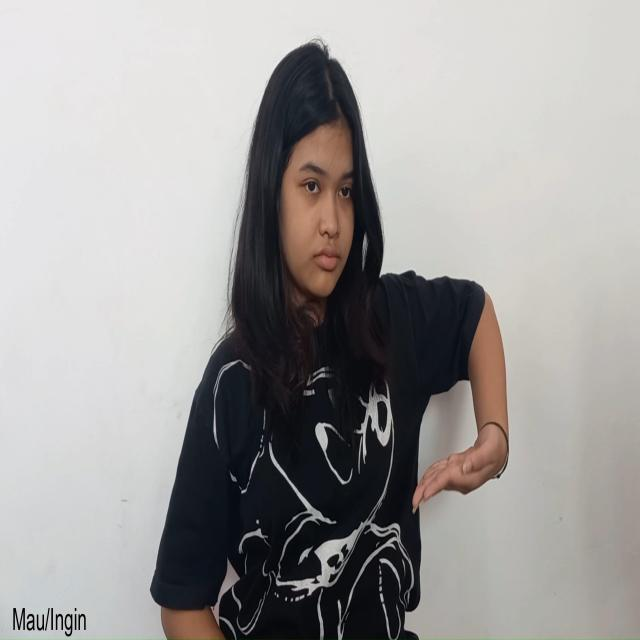Mau-Ingin -BISINDO-: (410, 419, 513, 519)
